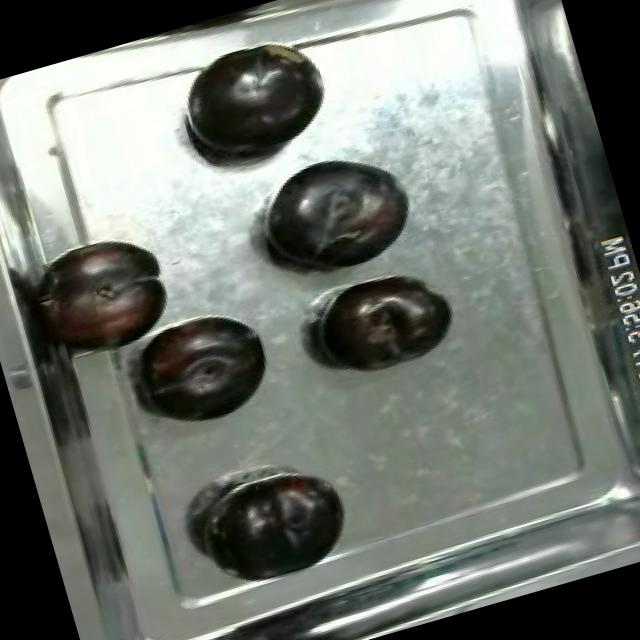Fruit: (243, 134, 429, 293), (163, 30, 341, 181), (195, 453, 362, 598), (25, 220, 186, 368), (130, 296, 284, 434), (302, 262, 465, 388)
